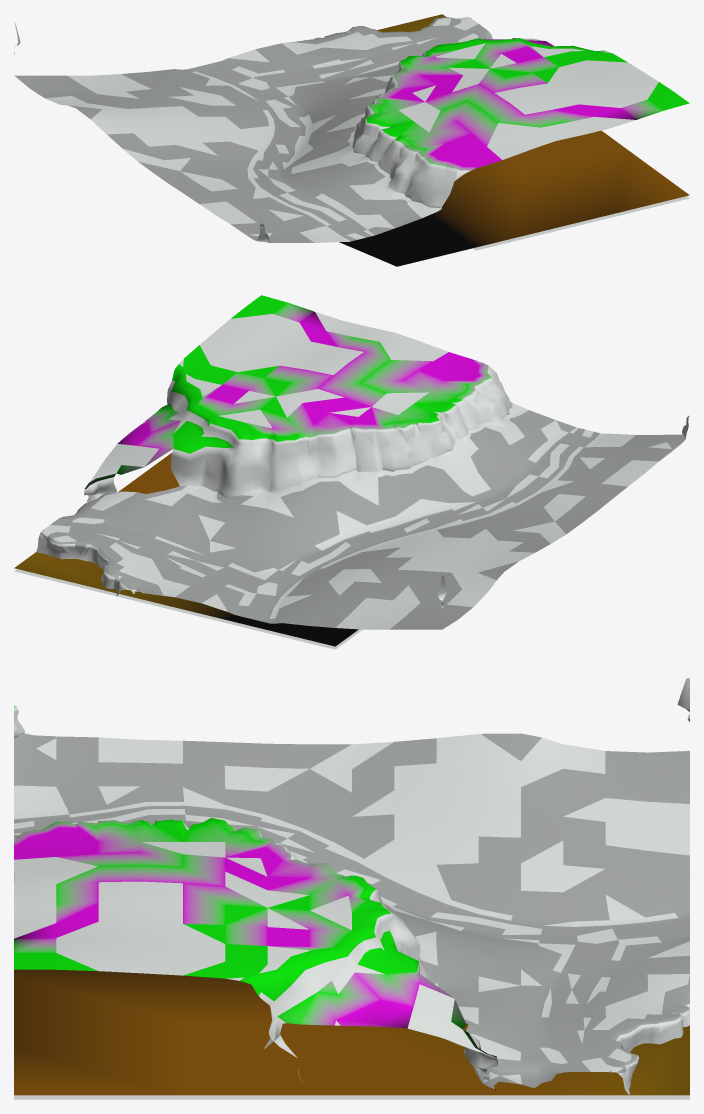
3 views of the same model, one above another, from view 1: azimuth 30°, elevation 25°; view 2: azimuth 150°, elevation 25°; view 3: azimuth 270°, elevation 25° (orthographic). The views are drawn at different scales.
Parts seen in each view (by area): view 1: G:\FFXIV-MapTools\exports\f1f1\bg\ffxiv\fst_f1\fld\f1f1\bgpl (×17); view 2: G:\FFXIV-MapTools\exports\f1f1\bg\ffxiv\fst_f1\fld\f1f1\bgpl (×17); view 3: G:\FFXIV-MapTools\exports\f1f1\bg\ffxiv\fst_f1\fld\f1f1\bgpl (×17).
Boxes of the visible parts, x1,y1,x2,y2 form: G:\FFXIV-MapTools\exports\f1f1\bg\ffxiv\fst_f1\fld\f1f1\bgpl (×17): (14,14,689,266); G:\FFXIV-MapTools\exports\f1f1\bg\ffxiv\fst_f1\fld\f1f1\bgpl (×17): (14,295,689,649); G:\FFXIV-MapTools\exports\f1f1\bg\ffxiv\fst_f1\fld\f1f1\bgpl (×17): (14,678,689,1099).
Bounding box in the file's own units: 128 × 28.36 × 128.
